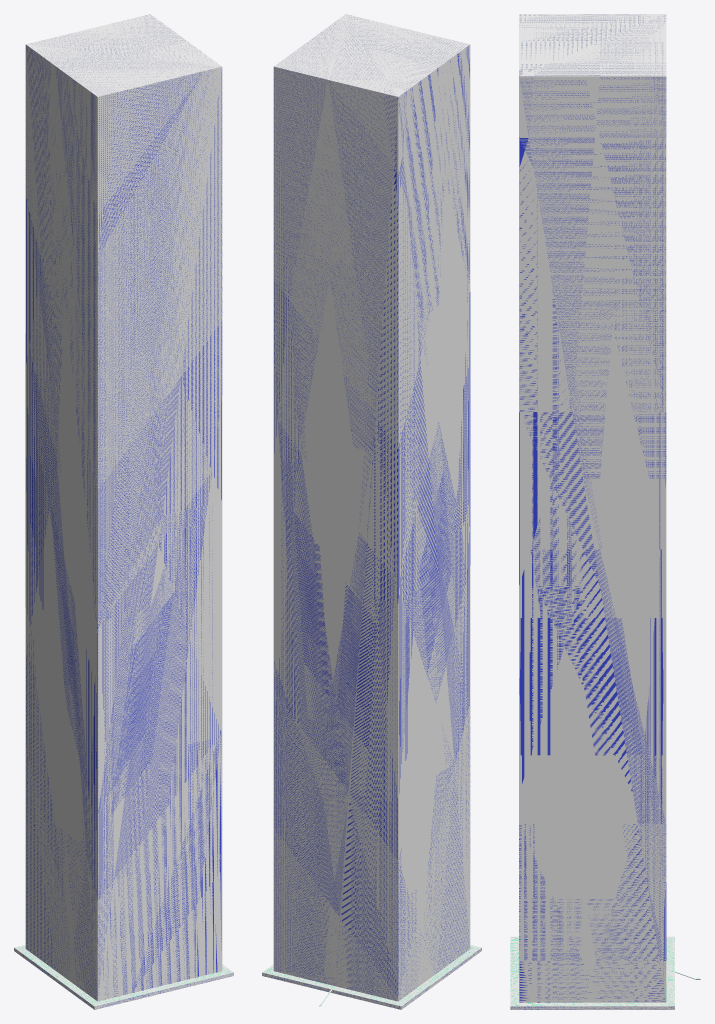
File: LevelInterior.fbx
The picture shows the model from 3 angles, left to right: view 1: azimuth 30°, elevation 25°; view 2: azimuth 150°, elevation 25°; view 3: azimuth 270°, elevation 25°; orthographic projection. The views are drawn at different scales.
Parts seen in each view (by area): view 1: Model; view 2: Model; view 3: Model.
Boxes of the visible parts, bbox=[...] form: Model: bbox=[14, 14, 233, 1009]; Model: bbox=[262, 14, 481, 1009]; Model: bbox=[510, 14, 700, 1009].
Bounding box in the file's own units: 2021 × 12648 × 2335.
